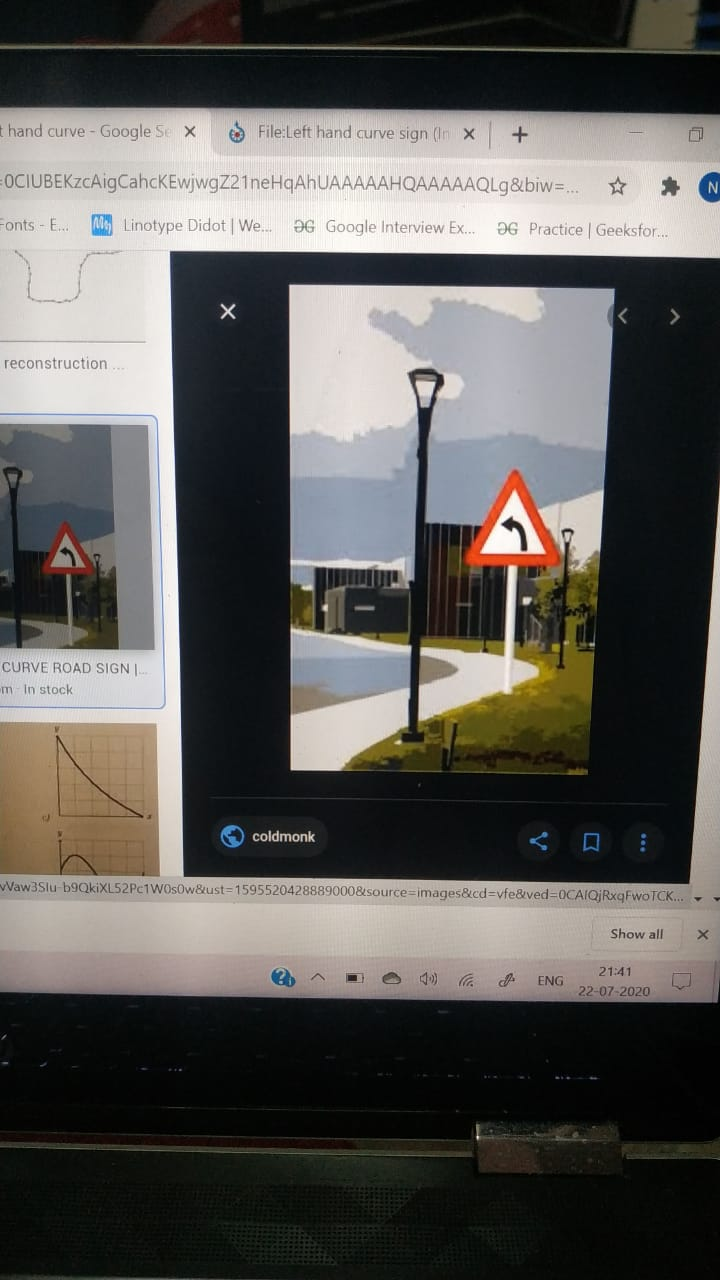LEFT CURVE: (460, 433, 581, 633), (27, 495, 102, 603)
